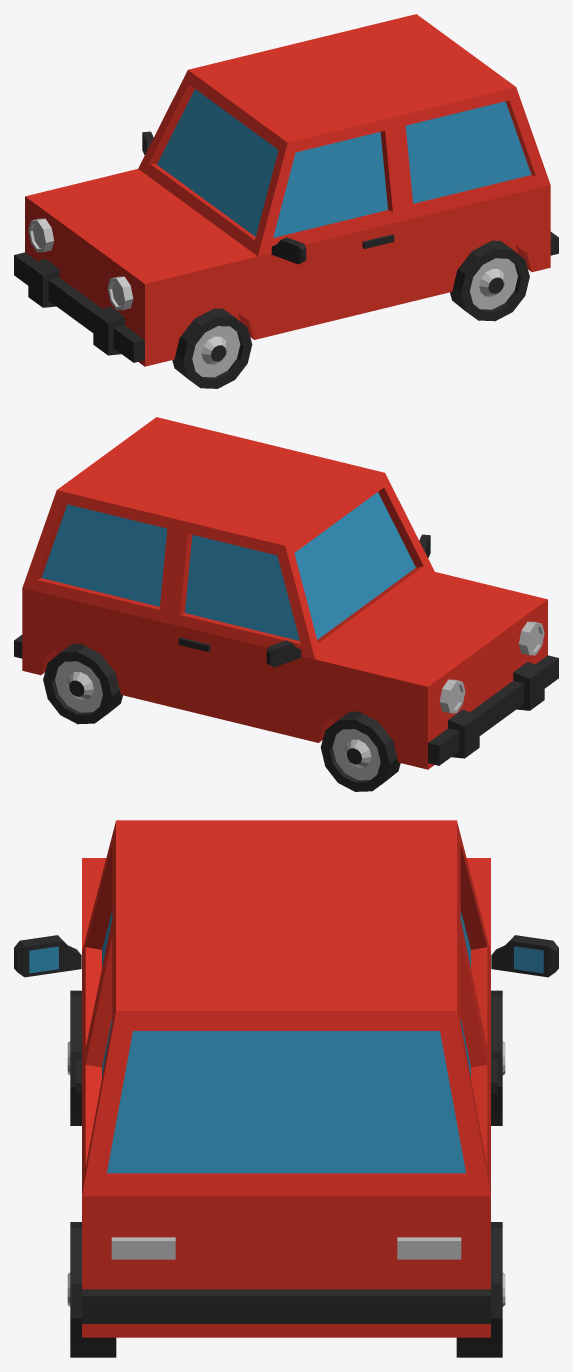
Rendered from Auto.fbx.
3 views of the same model, one above another, from view 1: azimuth 30°, elevation 25°; view 2: azimuth 150°, elevation 25°; view 3: azimuth 270°, elevation 25° (orthographic). The views are drawn at different scales.
Visible parts, largest first — view 1: Auto; view 2: Auto; view 3: Auto.
Part boxes in pixels (bbox=[...]): Auto: bbox=[14, 14, 558, 388]; Auto: bbox=[14, 417, 558, 791]; Auto: bbox=[14, 820, 558, 1357].
Size of the model in its own units: 4.15 by 1.99 by 2.66.
